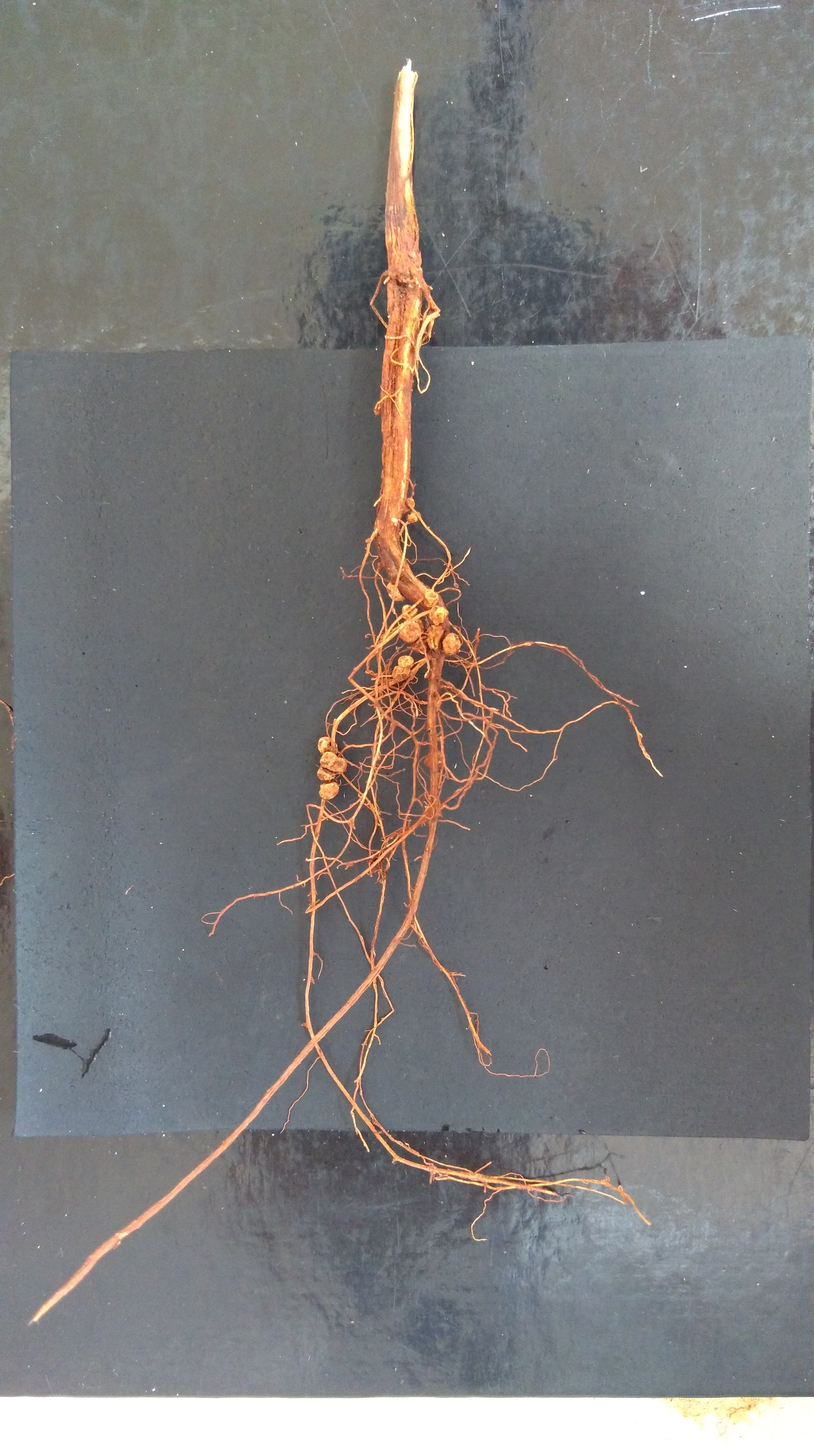nodule: (397, 618, 423, 644), (316, 735, 340, 757), (425, 624, 444, 651), (441, 632, 461, 657), (385, 581, 407, 603), (423, 750, 445, 771), (428, 605, 449, 626), (317, 782, 340, 801), (421, 589, 439, 608), (316, 765, 336, 782), (400, 604, 419, 620), (317, 751, 337, 766), (328, 757, 347, 772), (392, 666, 410, 681), (412, 639, 427, 654), (397, 656, 414, 667), (406, 511, 419, 523), (405, 497, 415, 509), (453, 582, 459, 589), (376, 755, 381, 760)
